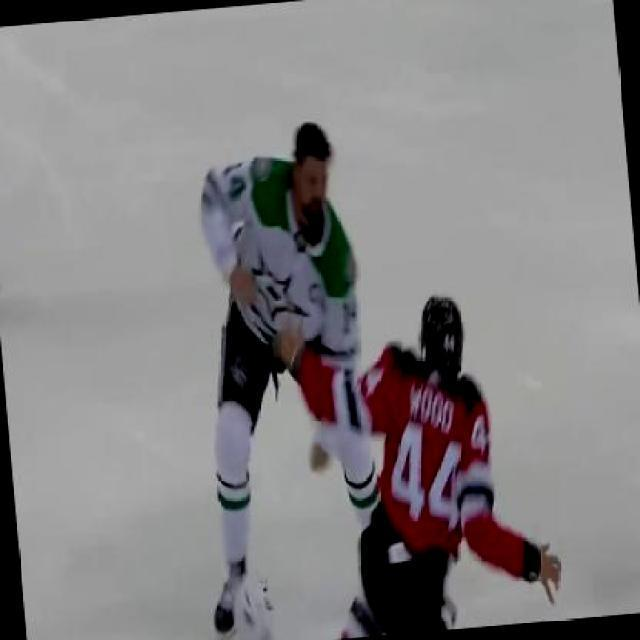fight: (184, 101, 546, 638)
